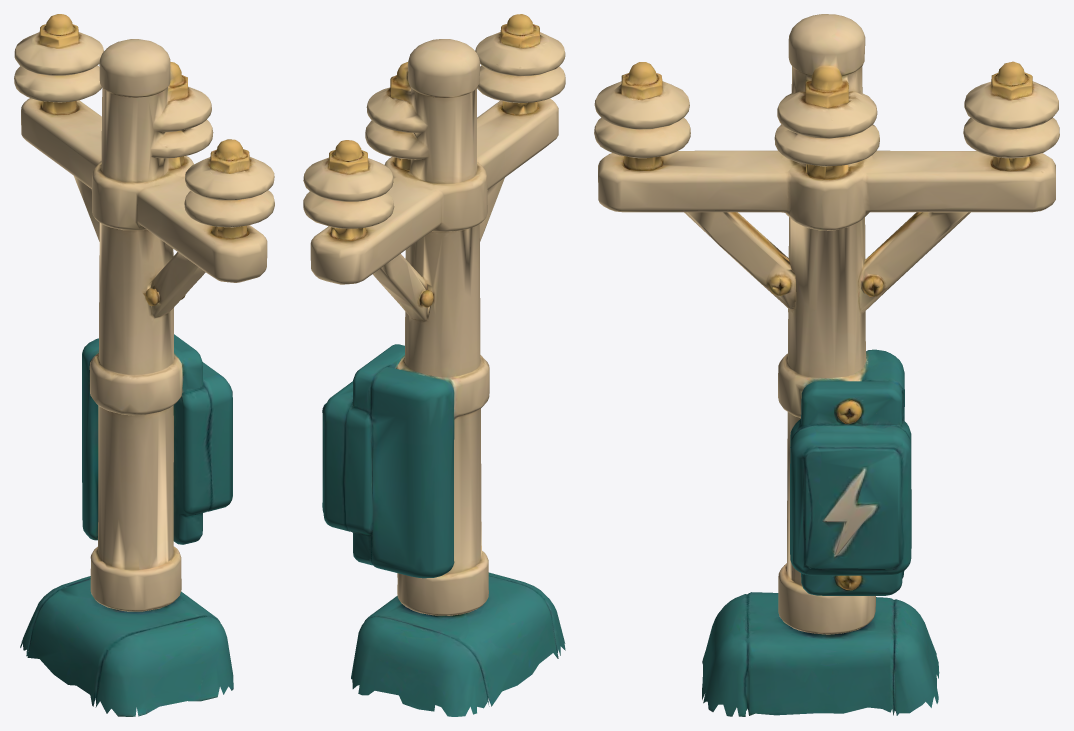
The model's file is pole.glb.
3 views of the same model, side by side, from view 1: azimuth 30°, elevation 25°; view 2: azimuth 150°, elevation 25°; view 3: azimuth 270°, elevation 25° (orthographic). The views are drawn at different scales.
Visible parts, largest first — view 1: tripo_node_4b7209a6-9c71-4374-9812-877ce58a2c14; view 2: tripo_node_4b7209a6-9c71-4374-9812-877ce58a2c14; view 3: tripo_node_4b7209a6-9c71-4374-9812-877ce58a2c14.
Part boxes in pixels (x1,y1,x2,y2): tripo_node_4b7209a6-9c71-4374-9812-877ce58a2c14: (14, 14, 274, 716); tripo_node_4b7209a6-9c71-4374-9812-877ce58a2c14: (303, 14, 565, 716); tripo_node_4b7209a6-9c71-4374-9812-877ce58a2c14: (594, 14, 1059, 716).
Size of the model in its own units: 0.2608 by 0.9114 by 0.5763.
1 material, 1 textured.
